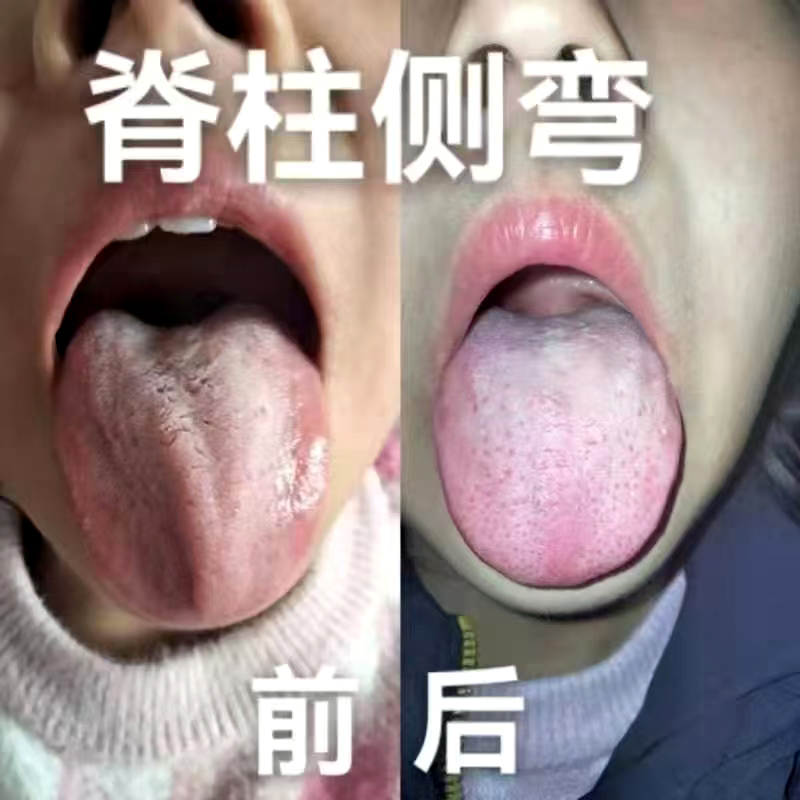baitaishe: (52, 311, 329, 627), (433, 307, 683, 588)
gandanao: (55, 388, 204, 612)
pangdashe: (432, 307, 682, 588)
